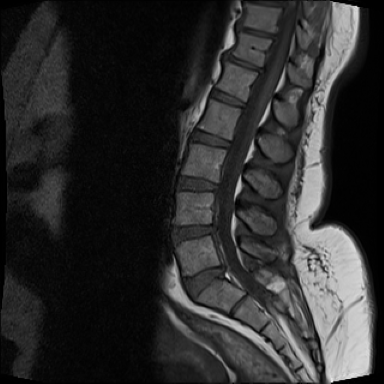Lumbar Disc Bulge (LDB): (178, 257, 234, 305), (165, 221, 224, 247)
Normal IVD: (185, 124, 235, 155), (203, 86, 249, 115), (226, 22, 282, 41), (175, 172, 218, 195)
Spinal Stenosis (SS): (205, 216, 223, 240), (216, 260, 231, 281)
Thoracic Disc Bulge (TDB): (219, 52, 268, 78)
